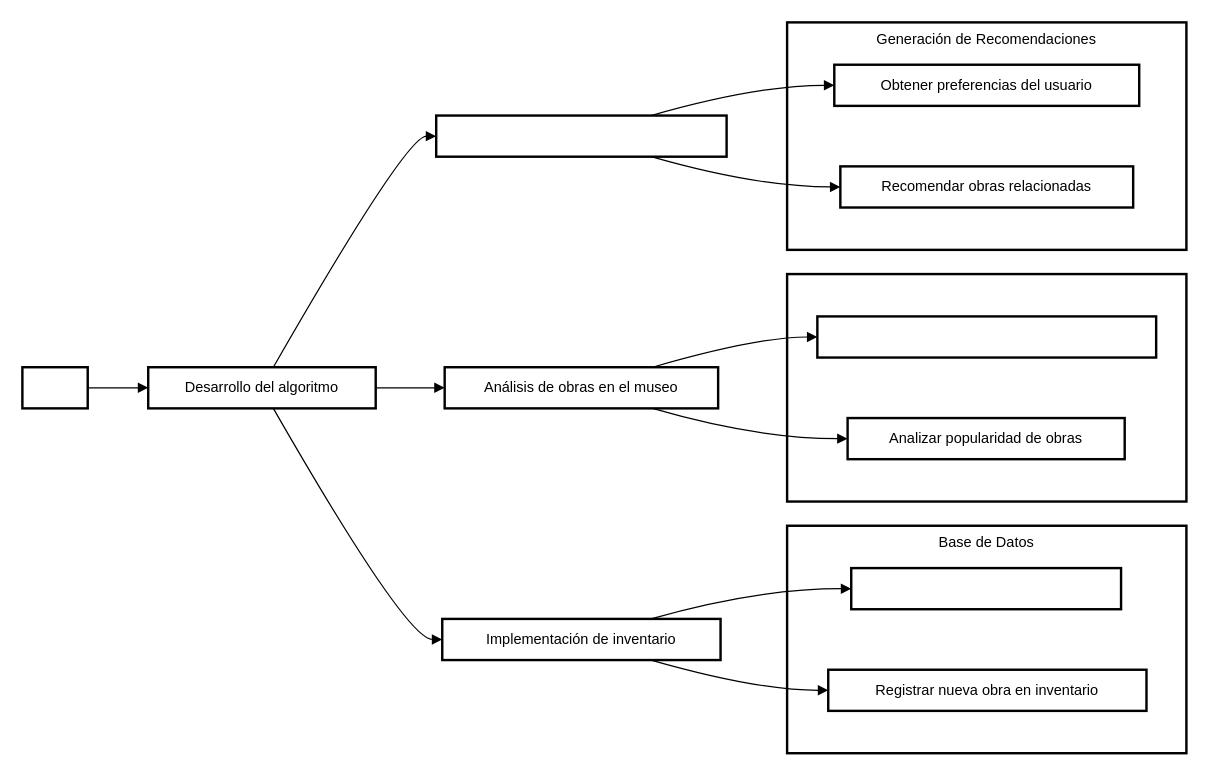
Image size: 1208x774. Some labels were removed from this diagram. The shapes that lost their labels are listed below. From the top down, each one's box as (x1, y1, x2, y2) in pixels, then its label:
(434, 114, 727, 157): Sugerencias de obras al usuario
(816, 315, 1157, 358): Identificar obras presentes en museo
(21, 365, 88, 409): Inicio
(785, 272, 1187, 502): Análisis de Obras
(849, 566, 1122, 610): Crear base de datos de obras
